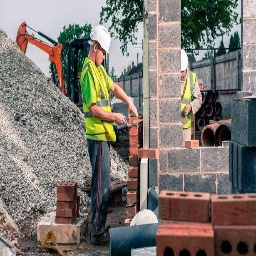helmet: (87, 23, 114, 58)
person: (82, 24, 118, 246)
vest: (83, 61, 109, 148)
